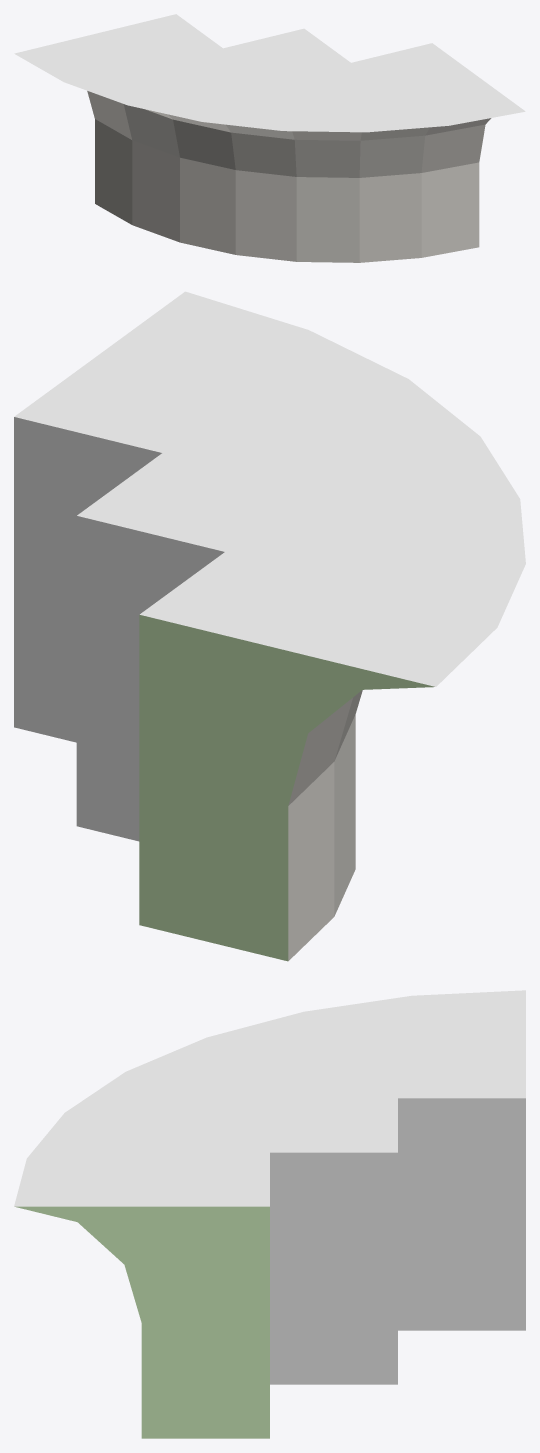
Rendered from Wall_Curve_Outer_4x4_Top.fbx.
The picture shows the model from 3 angles, top to bottom: view 1: azimuth 30°, elevation 25°; view 2: azimuth 150°, elevation 25°; view 3: azimuth 270°, elevation 25°; orthographic projection. The views are drawn at different scales.
Parts seen in each view (by area): view 1: Wall_Curve_Outer_4x4_Top; view 2: Wall_Curve_Outer_4x4_Top; view 3: Wall_Curve_Outer_4x4_Top.
Part boxes in pixels (<box>): Wall_Curve_Outer_4x4_Top: <box>14,14,525,262</box>; Wall_Curve_Outer_4x4_Top: <box>14,291,525,961</box>; Wall_Curve_Outer_4x4_Top: <box>14,990,525,1438</box>.
Size of the model in its own units: 400 by 200 by 400.
